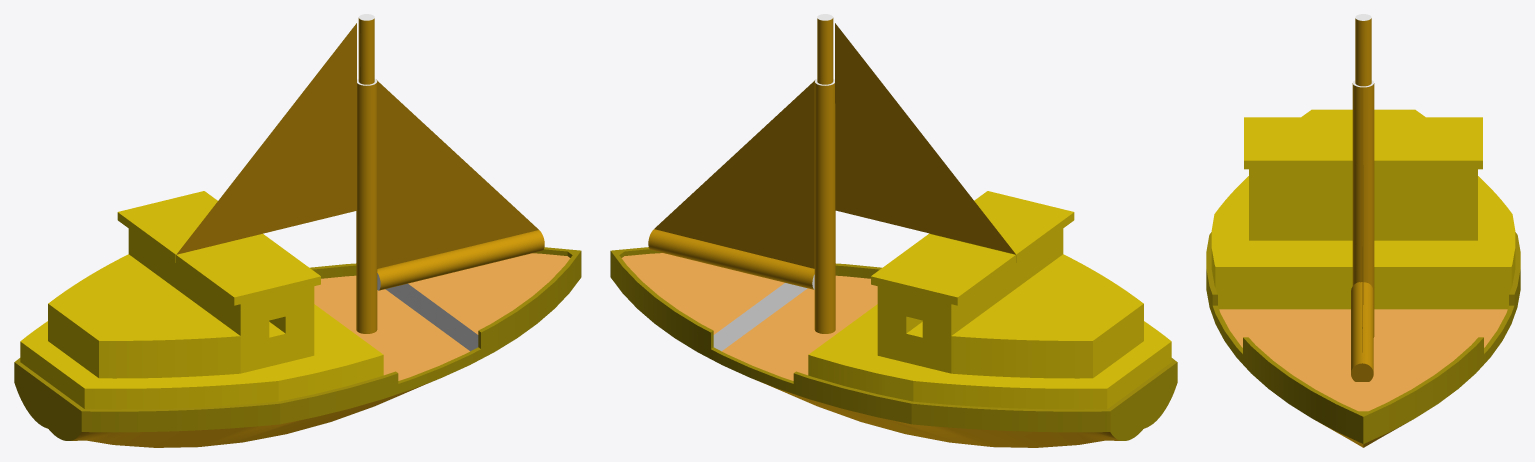
The model's file is phinisi.glb.
The picture shows the model from 3 angles, left to right: view 1: azimuth 30°, elevation 25°; view 2: azimuth 150°, elevation 25°; view 3: azimuth 270°, elevation 25°; orthographic projection. The views are drawn at different scales.
Visible parts, largest first — view 1: phinisi; view 2: phinisi; view 3: phinisi.
Part boxes in pixels (box(x1,y1,x2,y2)): phinisi: box(14, 14, 581, 447); phinisi: box(610, 14, 1177, 447); phinisi: box(1206, 14, 1520, 447).
Bounding box in the file's own units: 43.66 × 31.07 × 21.77.
